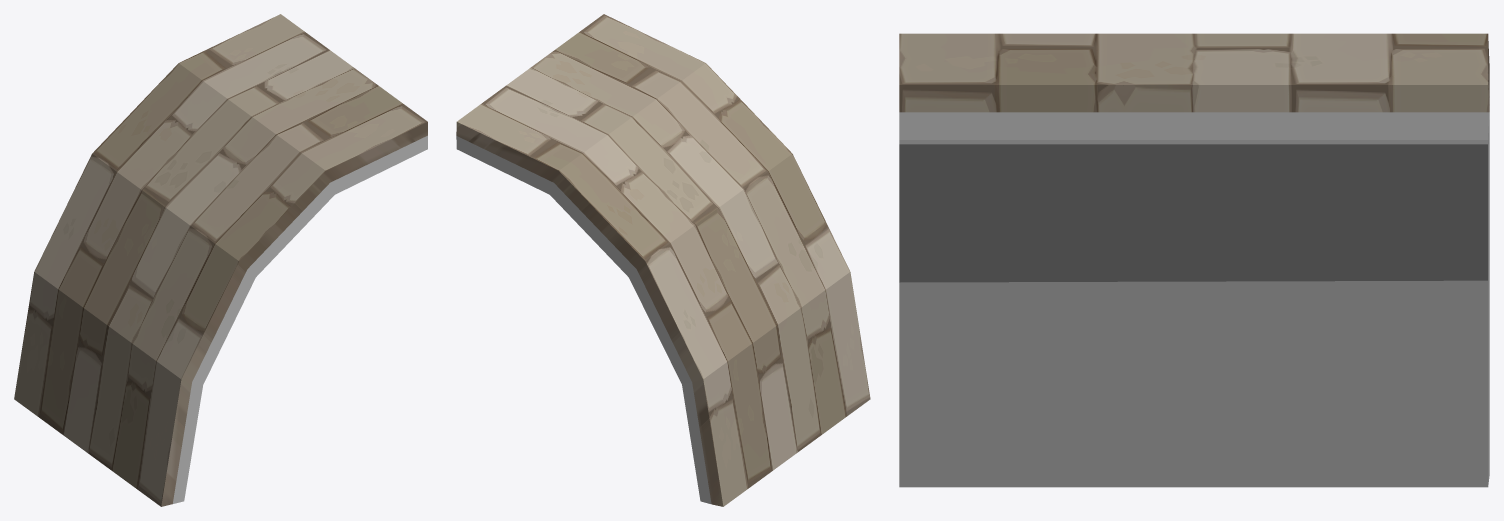
File: SM_Bld_Wall_Curved_Arch_01.fbx
3 views of the same model, side by side, from view 1: azimuth 30°, elevation 25°; view 2: azimuth 150°, elevation 25°; view 3: azimuth 270°, elevation 25° (orthographic). The views are drawn at different scales.
Parts seen in each view (by area): view 1: SM_Bld_Wall_Curved_Arch_01; view 2: SM_Bld_Wall_Curved_Arch_01; view 3: SM_Bld_Wall_Curved_Arch_01.
Part boxes in pixels (box(x1,y1,x2,y2)): SM_Bld_Wall_Curved_Arch_01: box(14, 14, 427, 506); SM_Bld_Wall_Curved_Arch_01: box(456, 14, 870, 506); SM_Bld_Wall_Curved_Arch_01: box(899, 33, 1489, 487).
Bounding box in the file's own units: 261 × 300 × 250.
